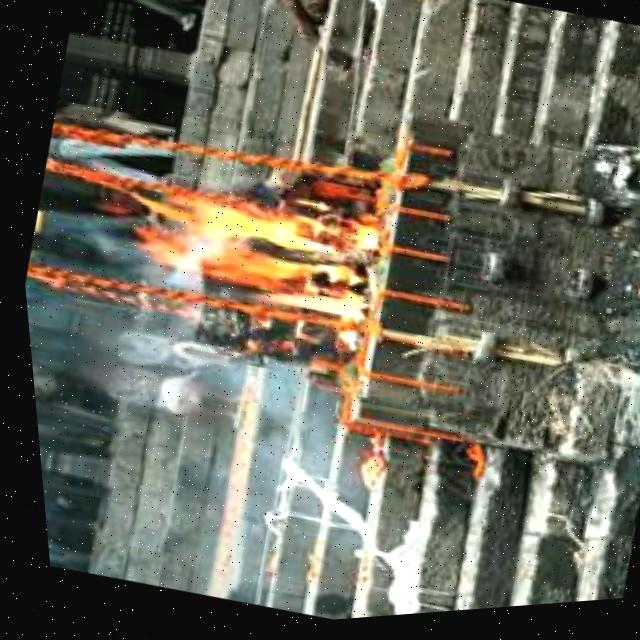Fire: (123, 166, 387, 344)
